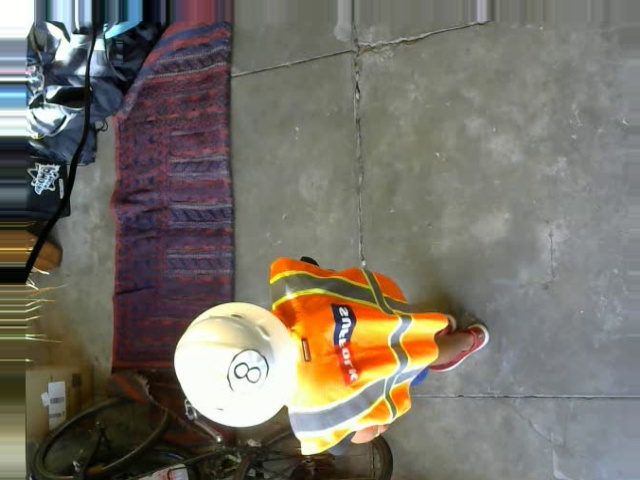eight: (226, 348, 267, 394)
